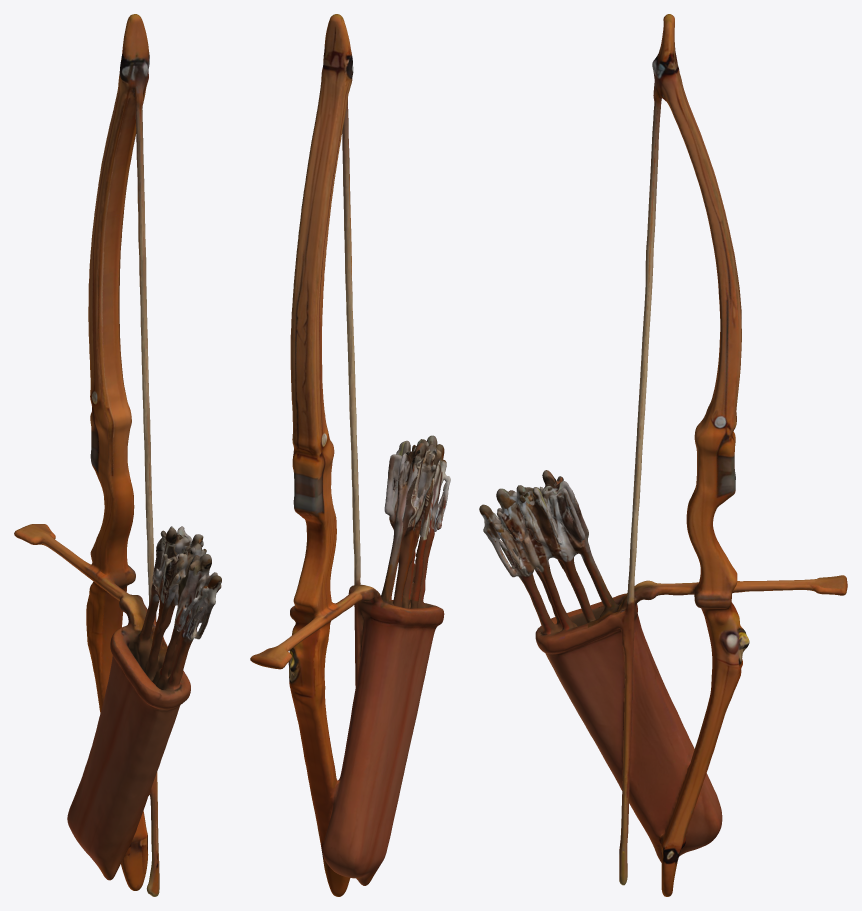
The model's file is longbow.glb.
The picture shows the model from 3 angles, left to right: view 1: azimuth 30°, elevation 25°; view 2: azimuth 150°, elevation 25°; view 3: azimuth 270°, elevation 25°; orthographic projection.
Visible parts, largest first — view 1: tripo_node_39991da7-e521-4cc4-a973-ab3353cc4bf7; view 2: tripo_node_39991da7-e521-4cc4-a973-ab3353cc4bf7; view 3: tripo_node_39991da7-e521-4cc4-a973-ab3353cc4bf7.
Part boxes in pixels (left/top/right/bottom): tripo_node_39991da7-e521-4cc4-a973-ab3353cc4bf7: left=14, top=14, right=221, bottom=896; tripo_node_39991da7-e521-4cc4-a973-ab3353cc4bf7: left=250, top=14, right=450, bottom=896; tripo_node_39991da7-e521-4cc4-a973-ab3353cc4bf7: left=479, top=14, right=847, bottom=896.
Bounding box in the file's own units: 0.0762 × 0.9483 × 0.3591.
Materials: 1 (1 with a texture image).
